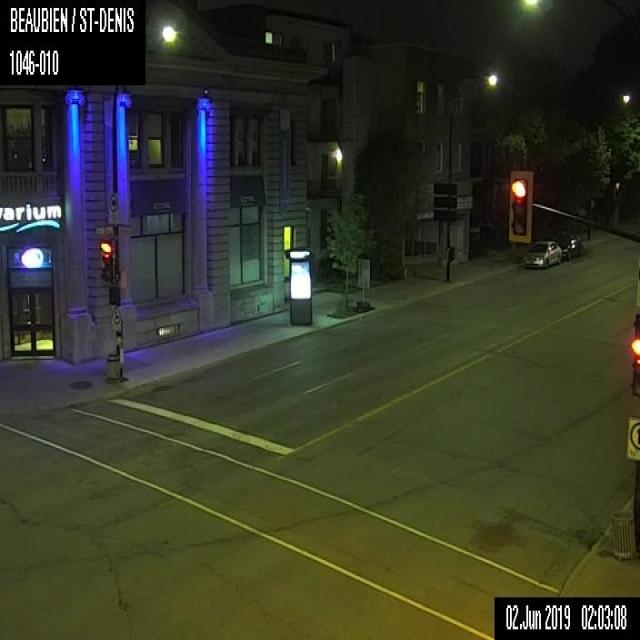vehicle: (523, 240, 561, 268), (556, 232, 582, 260)
